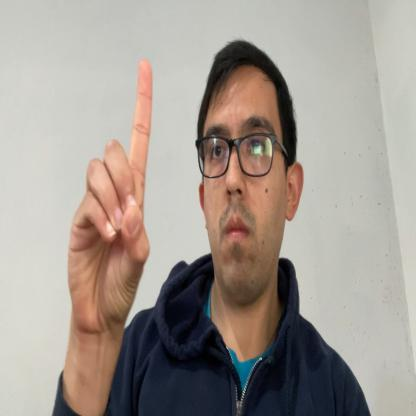D: (68, 59, 153, 332)
